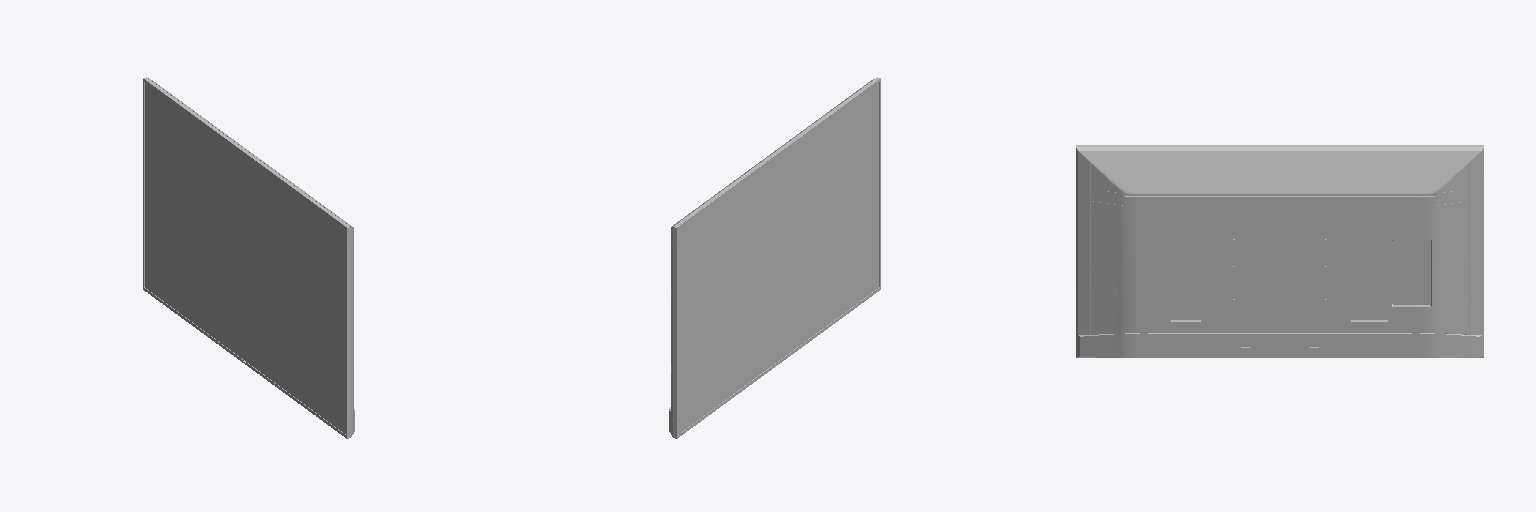
3 renders of one model, left to right at view 1: azimuth 30°, elevation 25°; view 2: azimuth 150°, elevation 25°; view 3: azimuth 270°, elevation 25°, orthographic.
Visible parts, largest first — view 1: Sony_x900f004_Mesh.059; view 2: Sony_x900f004_Mesh.059; view 3: Sony_x900f004_Mesh.059.
Boxes of the visible parts, box(x1,y1,x2,y2) form: Sony_x900f004_Mesh.059: box(143, 77, 354, 438); Sony_x900f004_Mesh.059: box(669, 77, 880, 438); Sony_x900f004_Mesh.059: box(1076, 145, 1483, 357).
Bounding box in the file's own units: 0.1151 × 1.05 × 1.84.